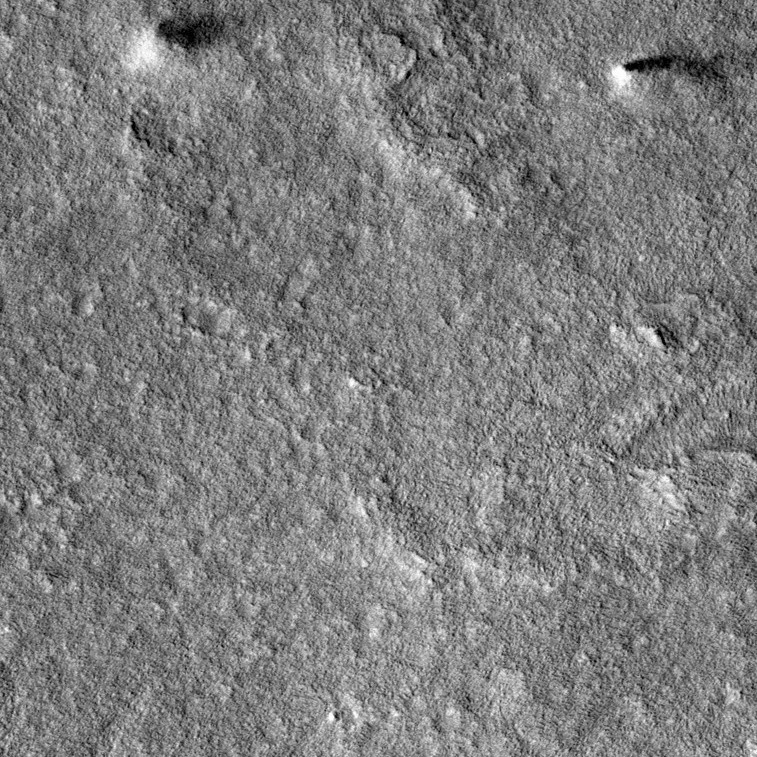dust_devil: (118, 9, 236, 74), (606, 47, 733, 91)
